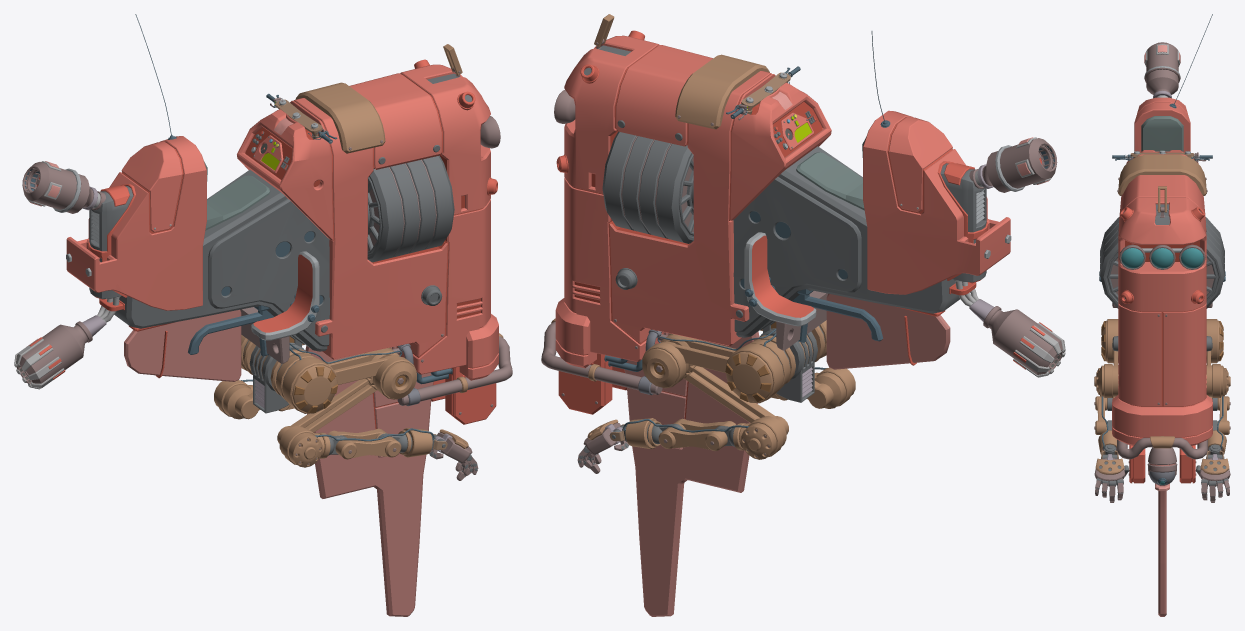
The model's file is Future_bike_CW_XYZ.fbx.
3 renders of one model, left to right at view 1: azimuth 30°, elevation 25°; view 2: azimuth 150°, elevation 25°; view 3: azimuth 270°, elevation 25°, orthographic. The views are drawn at different scales.
Parts seen in each view (by area): view 1: Head, Middle, Back, Fin_head, Motor_head, Fin_middle, Pipes_motor_2, Elbow (×2), Up_element, Shoulder, Biceps, Pedals (+9 smaller); view 2: Head, Middle, Back, Fin_head, Motor_head, Fin_middle, Pipes_motor_2, Elbow (×2), Up_element, Shoulder, Biceps, Pedals (+9 smaller); view 3: Head, Back, Motor_head, Up_element, Pipes_motor_2, Biceps (×2), Shoulder (×2), Pipe_head, Fin_head, Glass, Battary_blocks_head, Palm_accessories (×2) (+8 smaller).
Part boxes in pixels (x1,y1,x2,y2): Head: (237,64,498,380); Middle: (114,170,329,351); Back: (66,136,207,310); Fin_head: (305,345,433,616); Motor_head: (367,155,454,262); Fin_middle: (124,309,241,381); Pipes_motor_2: (16,162,120,383); Elbow (×2): (214,378,377,467); Up_element: (295,82,385,153); Shoulder: (270,349,337,413); Biceps: (327,347,416,399); Pedals: (251,251,319,340); Head: (555,35,831,368); Middle: (733,146,959,337); Back: (862,110,1010,294); Fin_head: (624,331,759,616); Motor_head: (602,131,693,243); Fin_middle: (826,293,950,369); Pipes_motor_2: (954,138,1063,374); Elbow (×2): (683,365,855,459); Up_element: (675,54,769,129); Shoulder: (725,335,795,403); Biceps: (642,333,735,388); Pedals: (744,232,816,326); Head: (1112,150,1212,445); Back: (1134,97,1190,152); Motor_head: (1100,217,1224,308); Up_element: (1118,154,1206,195); Pipes_motor_2: (1144,42,1180,98); Biceps (×2): (1099,349,1225,397); Shoulder (×2): (1101,319,1223,363); Pipe_head: (1117,436,1207,459); Fin_head: (1155,483,1169,616); Glass: (1121,248,1203,268); Battary_blocks_head: (1129,445,1195,483); Palm_accessories (×2): (1095,458,1229,474).
Bounding box in the file's own units: 7.03 × 8.93 × 2.17.
